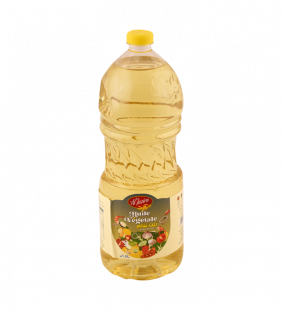AL JAZIRA: (93, 24, 189, 286)
